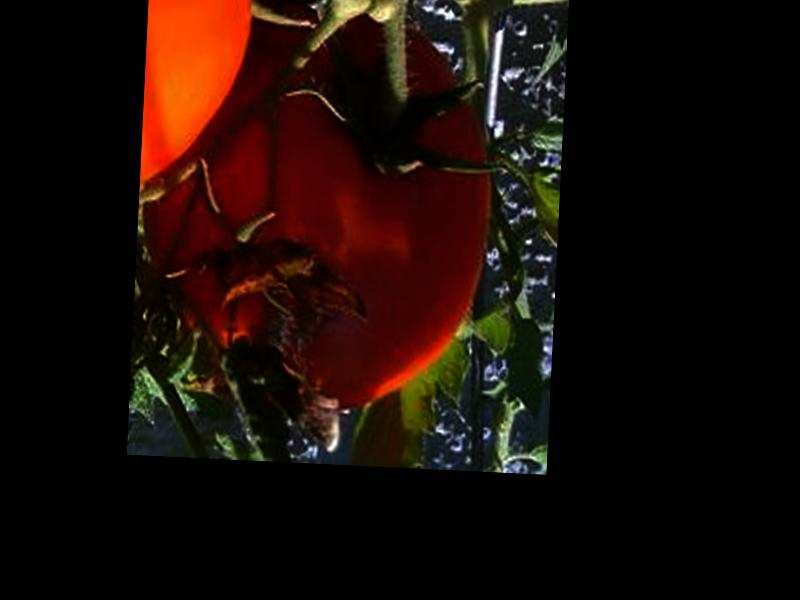Tomato: (140, 1, 500, 420)
